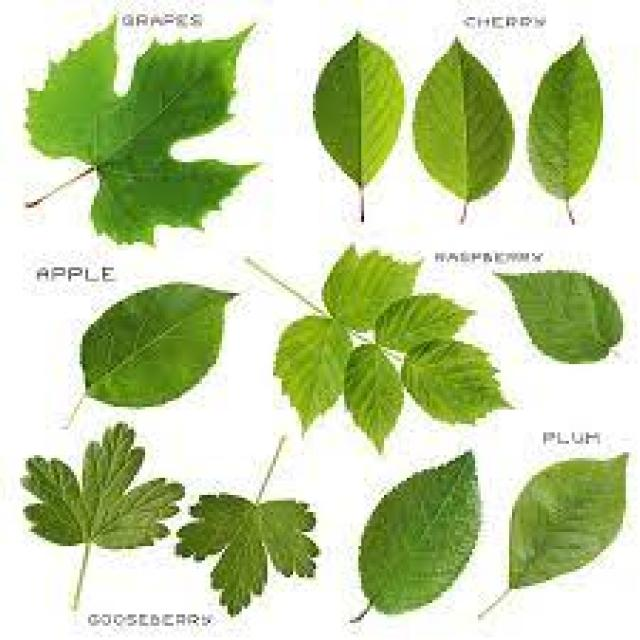leaves: (30, 25, 254, 243), (22, 424, 184, 609), (362, 452, 479, 612), (414, 40, 514, 222), (88, 288, 232, 406), (314, 34, 404, 221), (178, 494, 312, 614), (510, 455, 625, 587), (528, 39, 602, 224), (499, 272, 622, 362), (275, 318, 351, 431), (402, 340, 506, 422), (322, 246, 420, 329), (345, 344, 404, 451), (376, 294, 471, 351)
